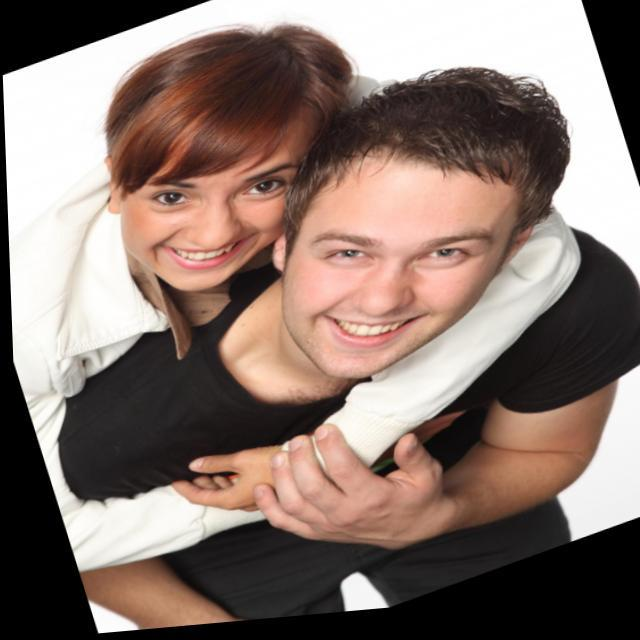Nonhelmet: (269, 49, 581, 387), (95, 9, 336, 297)
